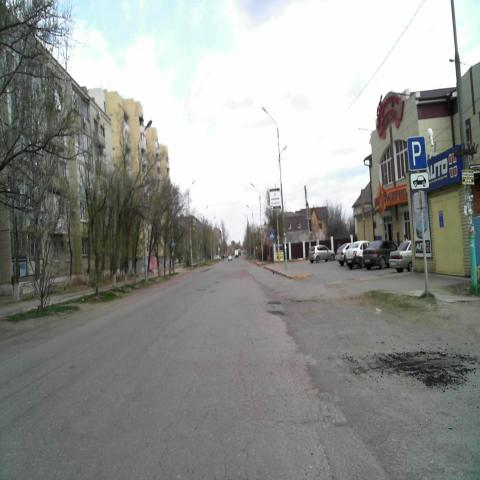8_4_3: (410, 172, 430, 190)
